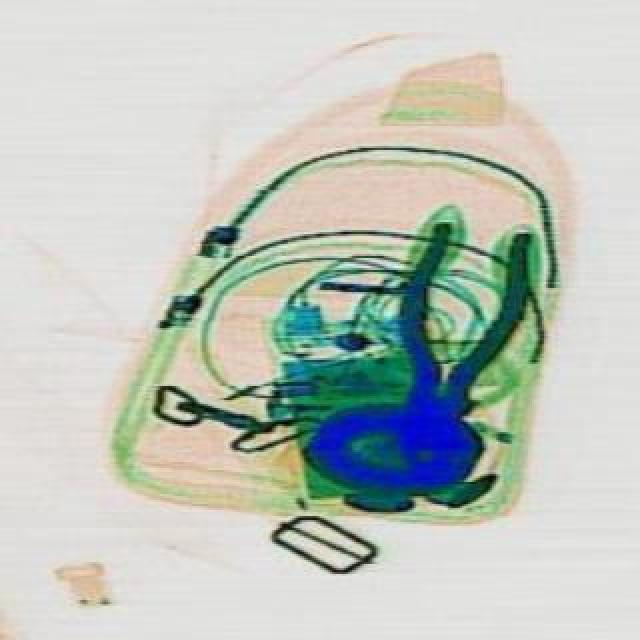wrench: (352, 206, 544, 466)
